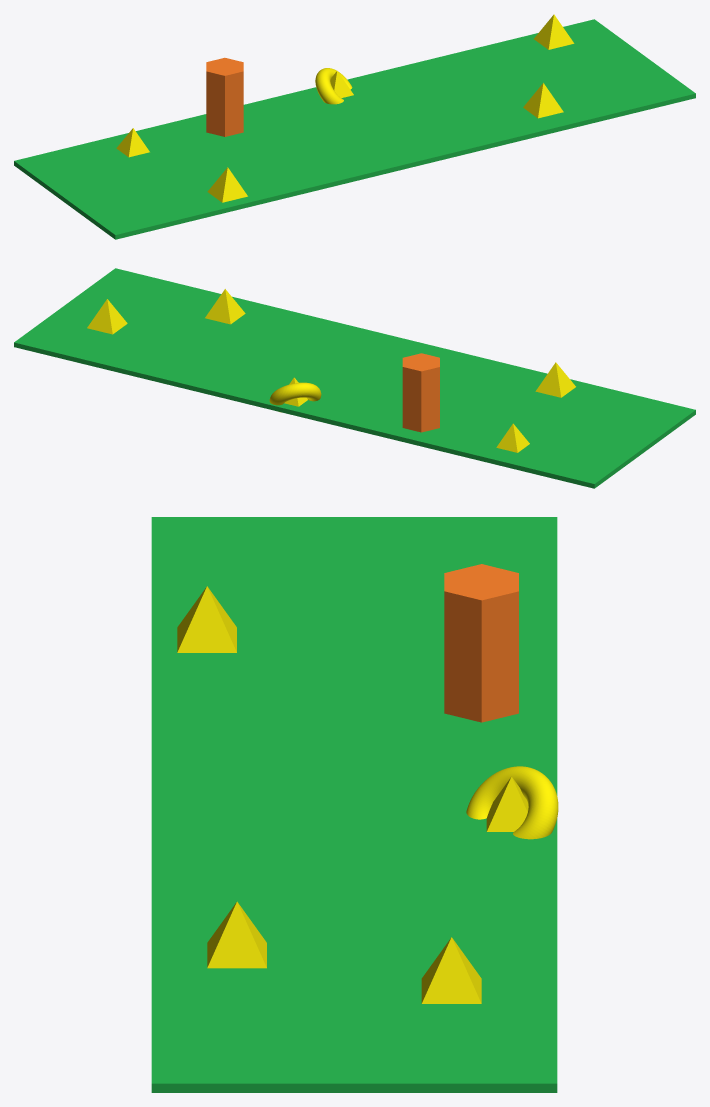
Rendered from world.gltf.
3 renders of one model, top to bottom at view 1: azimuth 30°, elevation 25°; view 2: azimuth 150°, elevation 25°; view 3: azimuth 270°, elevation 25°, orthographic. The views are drawn at different scales.
Size of the model in its own units: 0.895 by 0.1154 by 0.2716.
